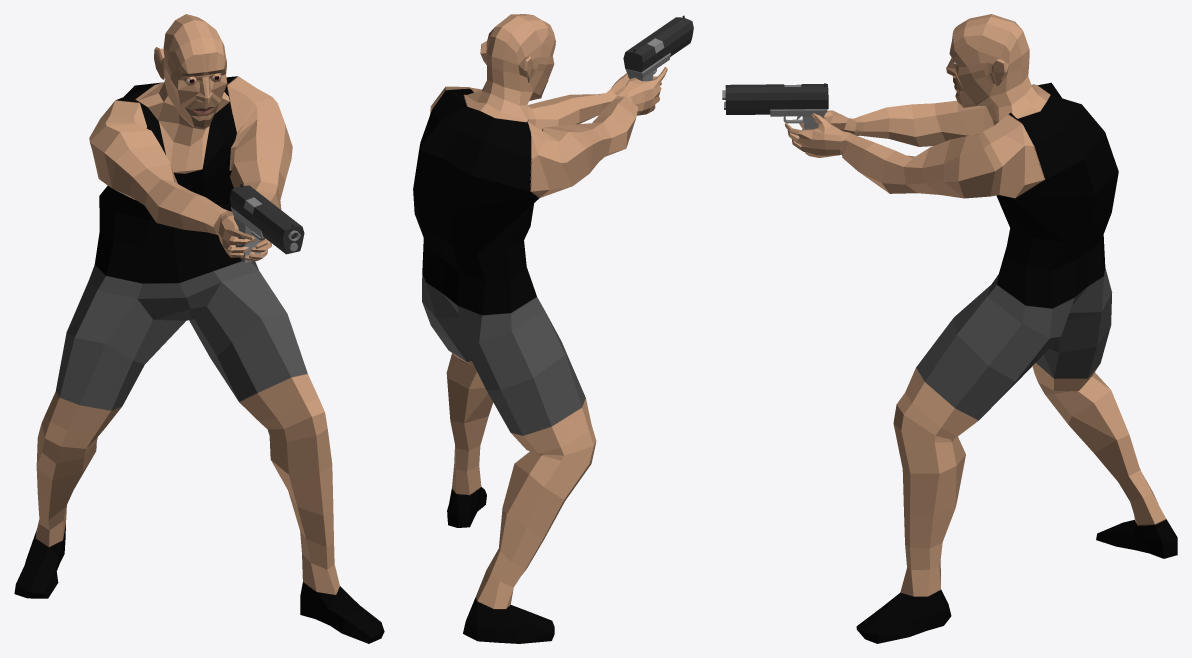
Rendered from PlayerShoot(2).obj.
3 renders of one model, left to right at view 1: azimuth 30°, elevation 25°; view 2: azimuth 150°, elevation 25°; view 3: azimuth 270°, elevation 25°, orthographic. The views are drawn at different scales.
Visible parts, largest first — view 1: Plane002, Box003; view 2: Plane002, Box003; view 3: Plane002, Box003.
Part boxes in pixels (x1=…): Plane002: x1=14, y1=14, x2=384, y2=643; Box003: x1=229, y1=183, x2=304, y2=262; Plane002: x1=413, y1=14, x2=667, y2=643; Box003: x1=623, y1=15, x2=693, y2=81; Plane002: x1=785, y1=14, x2=1177, y2=643; Box003: x1=722, y1=83, x2=828, y2=151.
Size of the model in its own units: 716 by 1665 by 1213.
